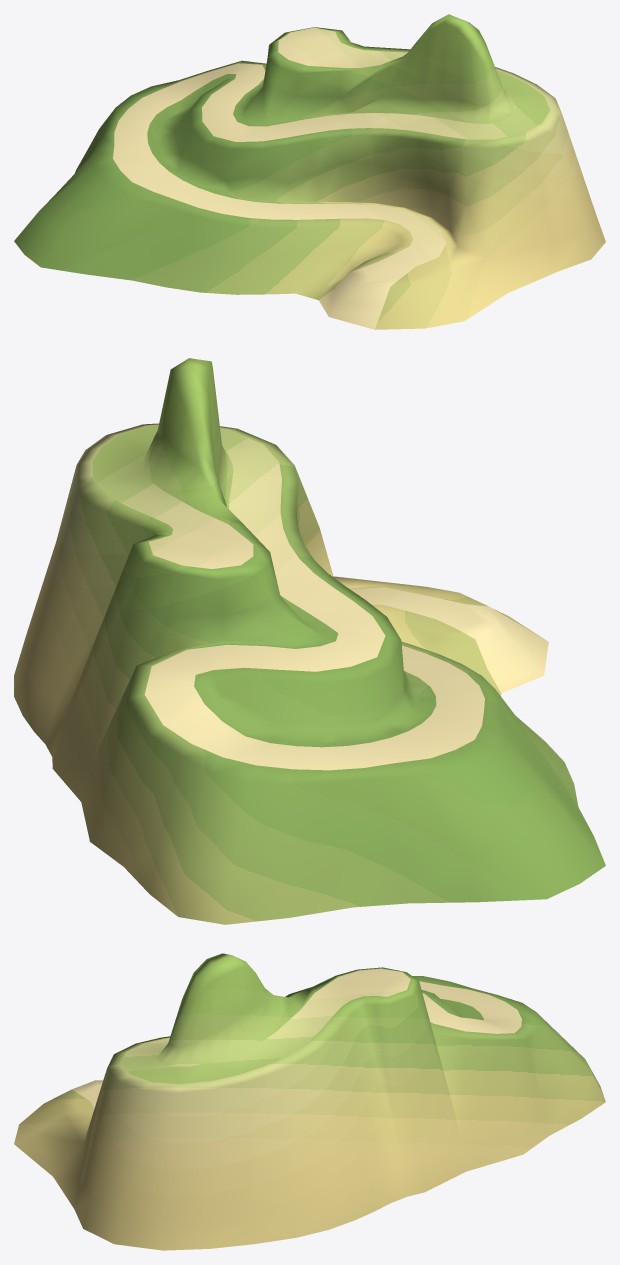
Rendered from model_island_06.fbx.
3 views of the same model, one above another, from view 1: azimuth 30°, elevation 25°; view 2: azimuth 150°, elevation 25°; view 3: azimuth 270°, elevation 25° (orthographic). The views are drawn at different scales.
Parts seen in each view (by area): view 1: island_06_geo; view 2: island_06_geo; view 3: island_06_geo.
Boxes of the visible parts, bbox=[...] form: island_06_geo: bbox=[14, 14, 605, 329]; island_06_geo: bbox=[14, 358, 605, 924]; island_06_geo: bbox=[14, 953, 605, 1250].
Bounding box in the file's own units: 470 × 208 × 477.
